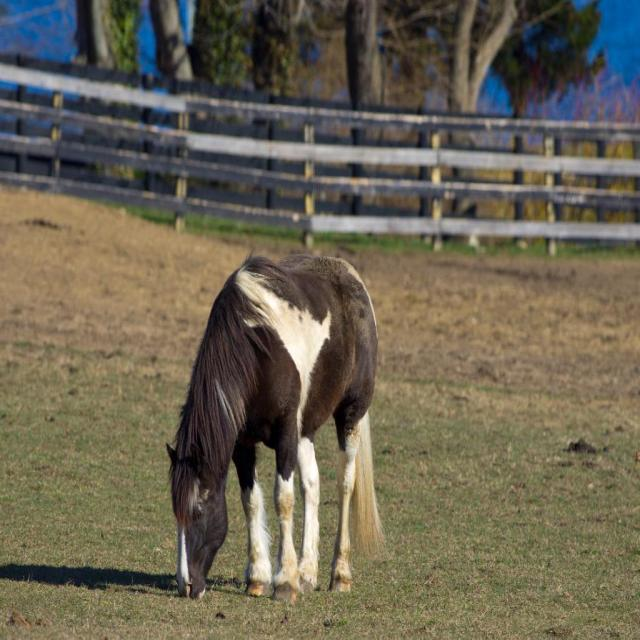Horse: (167, 248, 387, 601)
